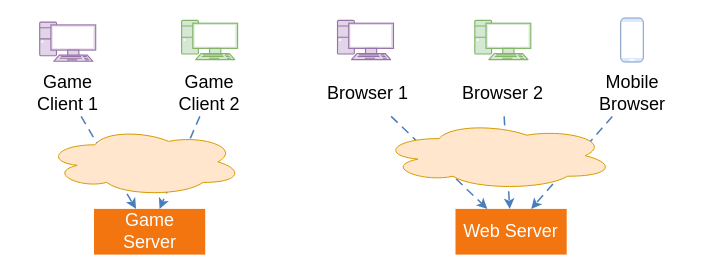
Some shapes in this 712 by 272 pixel diagram are drawn without their labels. The centre of each missing label's shape, as x and y in pixels:
Network: the point at 143,161
Web: the point at 497,155
